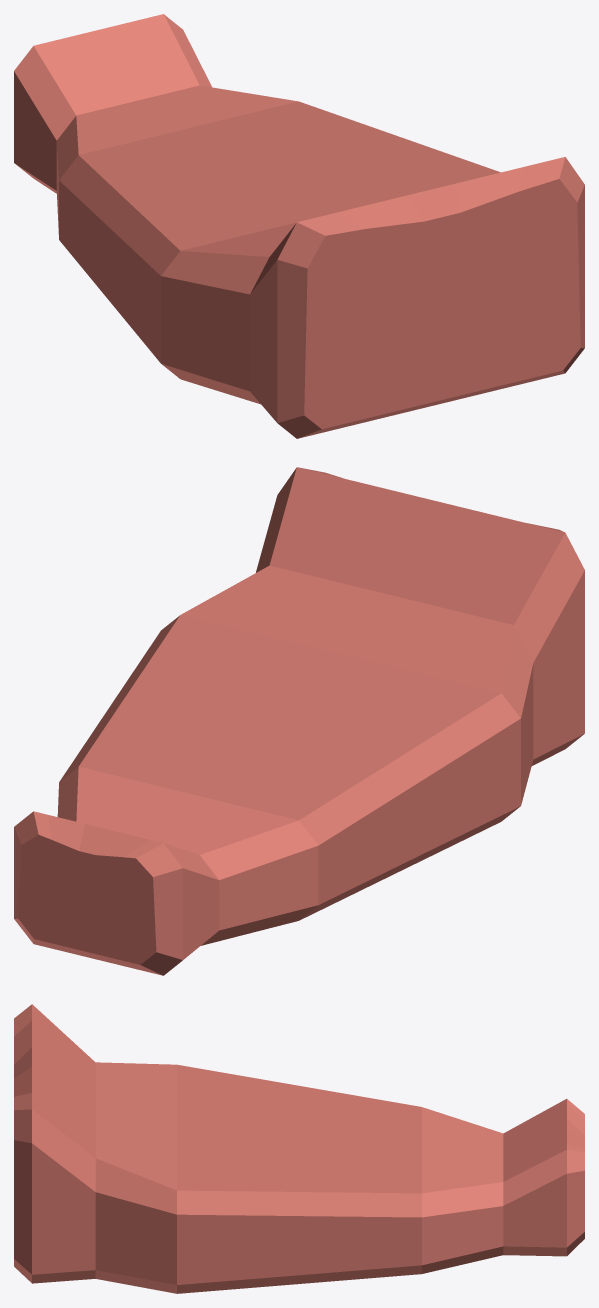
File: calder_scout_a.glb
3 views of the same model, one above another, from view 1: azimuth 30°, elevation 25°; view 2: azimuth 150°, elevation 25°; view 3: azimuth 270°, elevation 25° (orthographic). The views are drawn at different scales.
Parts seen in each view (by area): view 1: calder_scout_a; view 2: calder_scout_a; view 3: calder_scout_a.
Part boxes in pixels (bbox=[...]): calder_scout_a: bbox=[14, 14, 584, 438]; calder_scout_a: bbox=[14, 467, 584, 975]; calder_scout_a: bbox=[14, 1004, 584, 1293].
Size of the model in its own units: 2.4 by 1.38 by 4.1.
